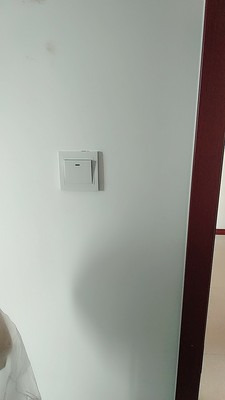switch: (63, 156, 97, 186)
